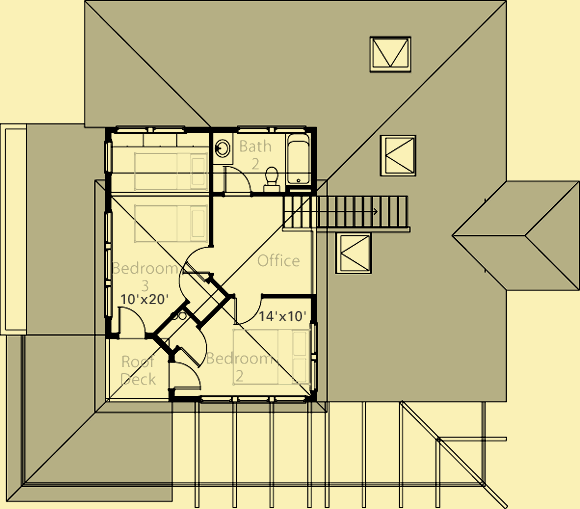bathroom has a large and small sink and tub: (208, 126, 313, 196)
there is a bedroom with a double bed: (200, 294, 316, 400)
there is a bedroom with a single bed: (105, 196, 210, 303), (102, 125, 212, 199)
